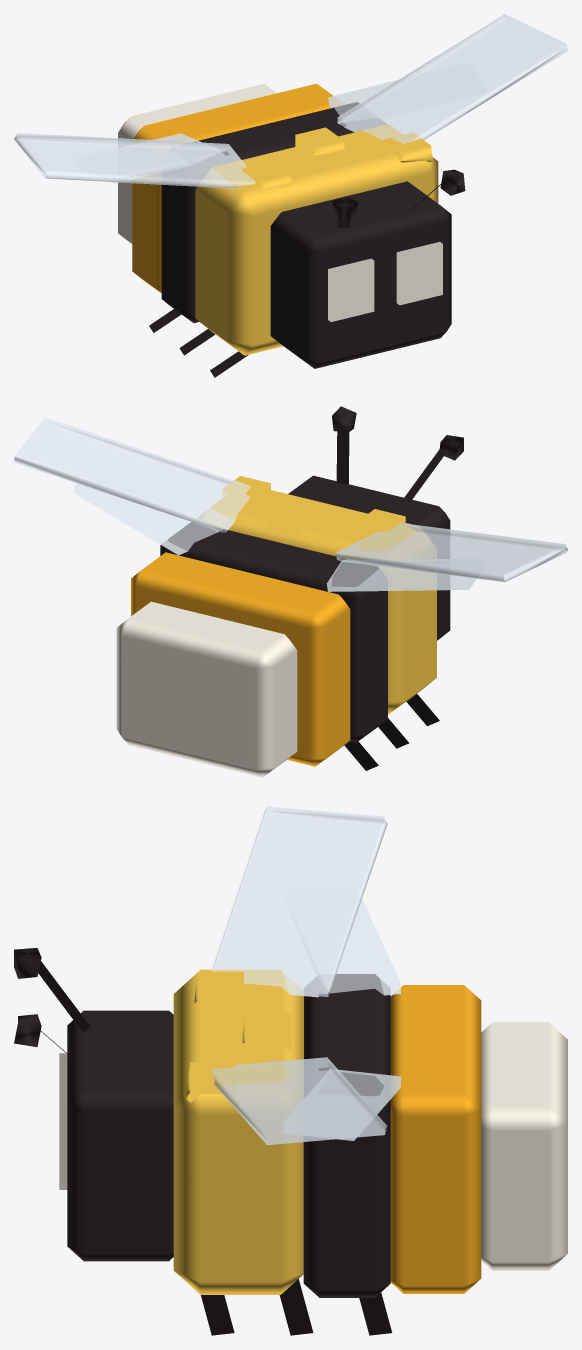
The model's file is bumblebee-poly-by-google_42S5XD_3C4O-blocky_lod2.glb.
The picture shows the model from 3 angles, top to bottom: view 1: azimuth 30°, elevation 25°; view 2: azimuth 150°, elevation 25°; view 3: azimuth 270°, elevation 25°; orthographic projection. The views are drawn at different scales.
Parts seen in each view (by area): view 1: Geo_Bumblebee; view 2: Geo_Bumblebee; view 3: Geo_Bumblebee.
Part boxes in pixels (x1,y1,x2,y2): Geo_Bumblebee: (14,14,567,377); Geo_Bumblebee: (14,406,567,777); Geo_Bumblebee: (14,806,567,1335).
Bounding box in the file's own units: 120 × 49.97 × 85.28.
Materials: 2 (1 with a texture image).
